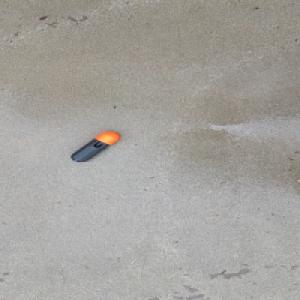PlasticPart: (69, 131, 120, 162)
